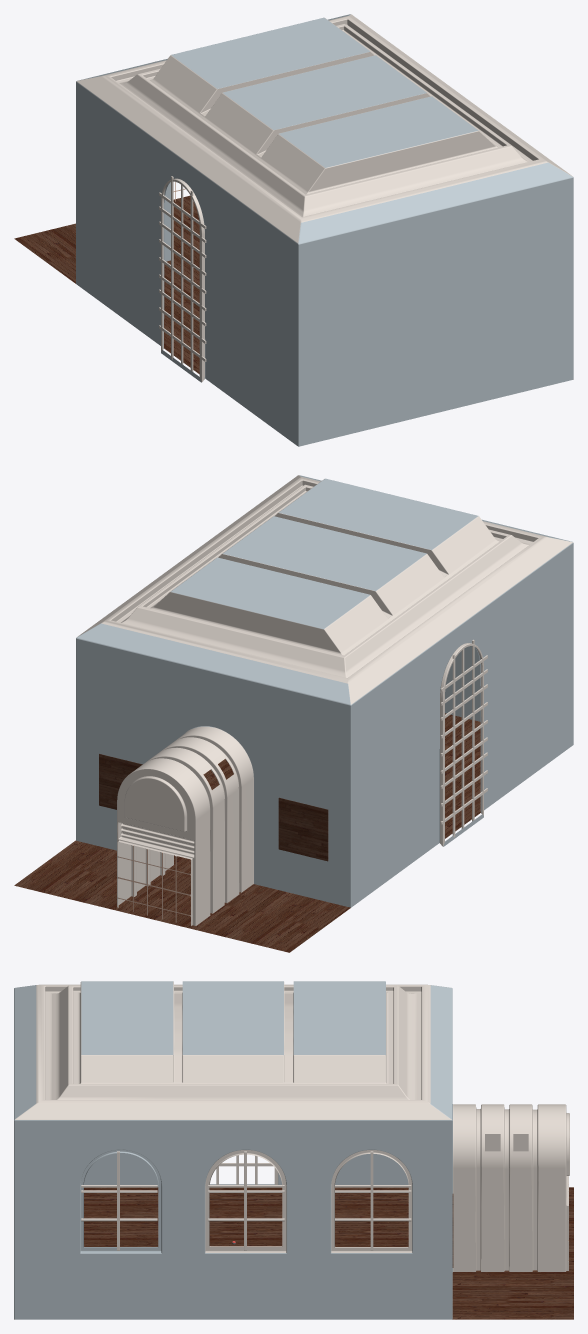
File: museum_Present.gltf
3 views of the same model, one above another, from view 1: azimuth 30°, elevation 25°; view 2: azimuth 150°, elevation 25°; view 3: azimuth 270°, elevation 25° (orthographic).
Parts seen in each view (by area): view 1: Plane.003, Plane.004, Cube.026; view 2: Plane.003, Plane.004, Cube.026, Plane.005, Plane.006; view 3: Plane.003, Plane.004, Cube.019, Cube.017, Cube.018.
Part boxes in pixels (x1,y1,x2,y2): Plane.003: (76, 14, 573, 446); Plane.004: (14, 195, 199, 374); Cube.026: (159, 176, 206, 371); Plane.003: (76, 475, 573, 925); Plane.004: (14, 713, 480, 952); Cube.026: (440, 639, 487, 837); Plane.005: (278, 797, 328, 861); Plane.006: (99, 754, 142, 809); Plane.003: (14, 981, 569, 1319); Plane.004: (14, 1187, 573, 1319); Cube.019: (335, 1151, 411, 1250); Cube.017: (208, 1151, 284, 1250); Cube.018: (81, 1151, 157, 1250).
Bounding box in the file's own units: 22.3 × 18.5 × 39.36.
Materials: 7 (2 with a texture image).
